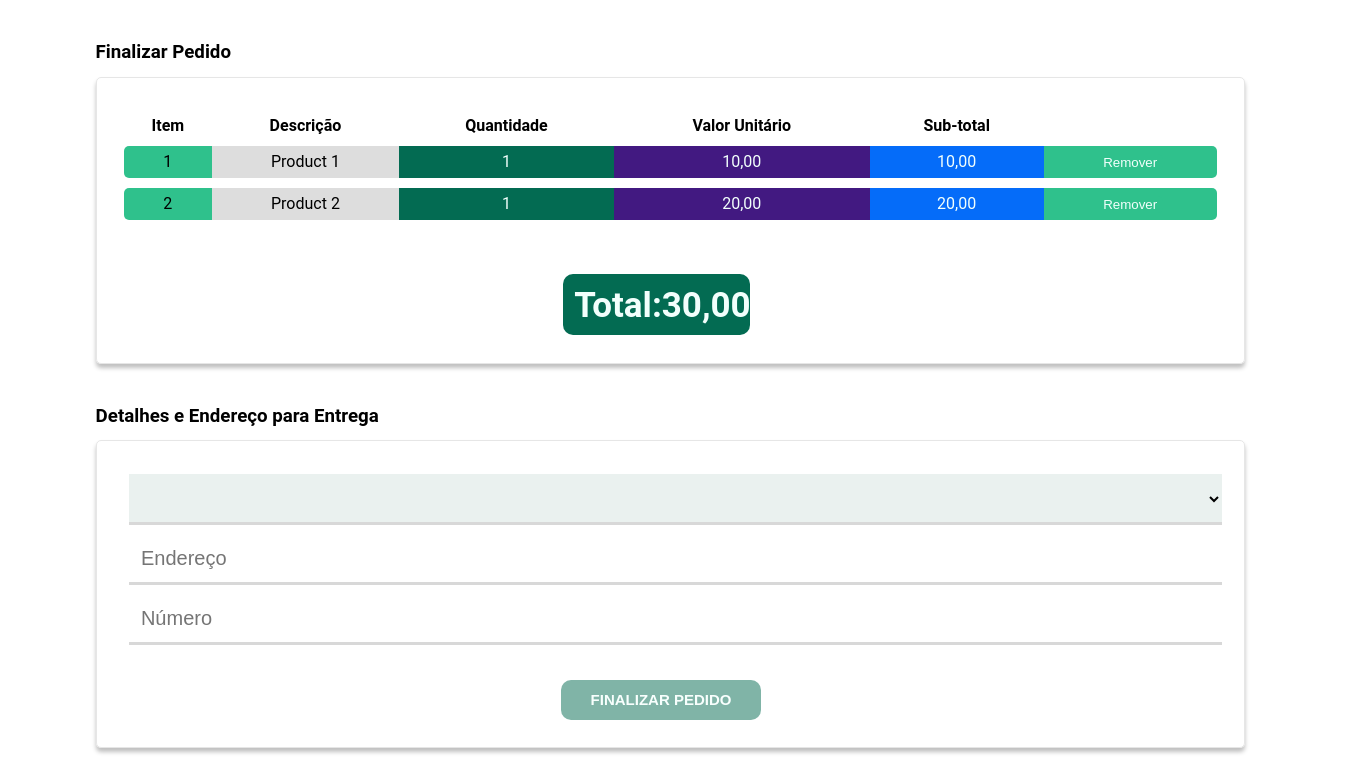
Test: Checkout › removes a product from the cart when the remove button is clicked
The image size is (1366, 768).
Check: the heading "Finalizar Pedido" is shown, box [96, 41, 231, 63]
Check: the heading "Detalhes e Endereço para Entrega" is shown, box [96, 405, 379, 427]
What coordinates should you click on to do the following:
click the button with test id "customer_checkout__element-order-table-remove-1"
I would click on:
 (1130, 205)
Its box is [1097, 196, 1163, 213].
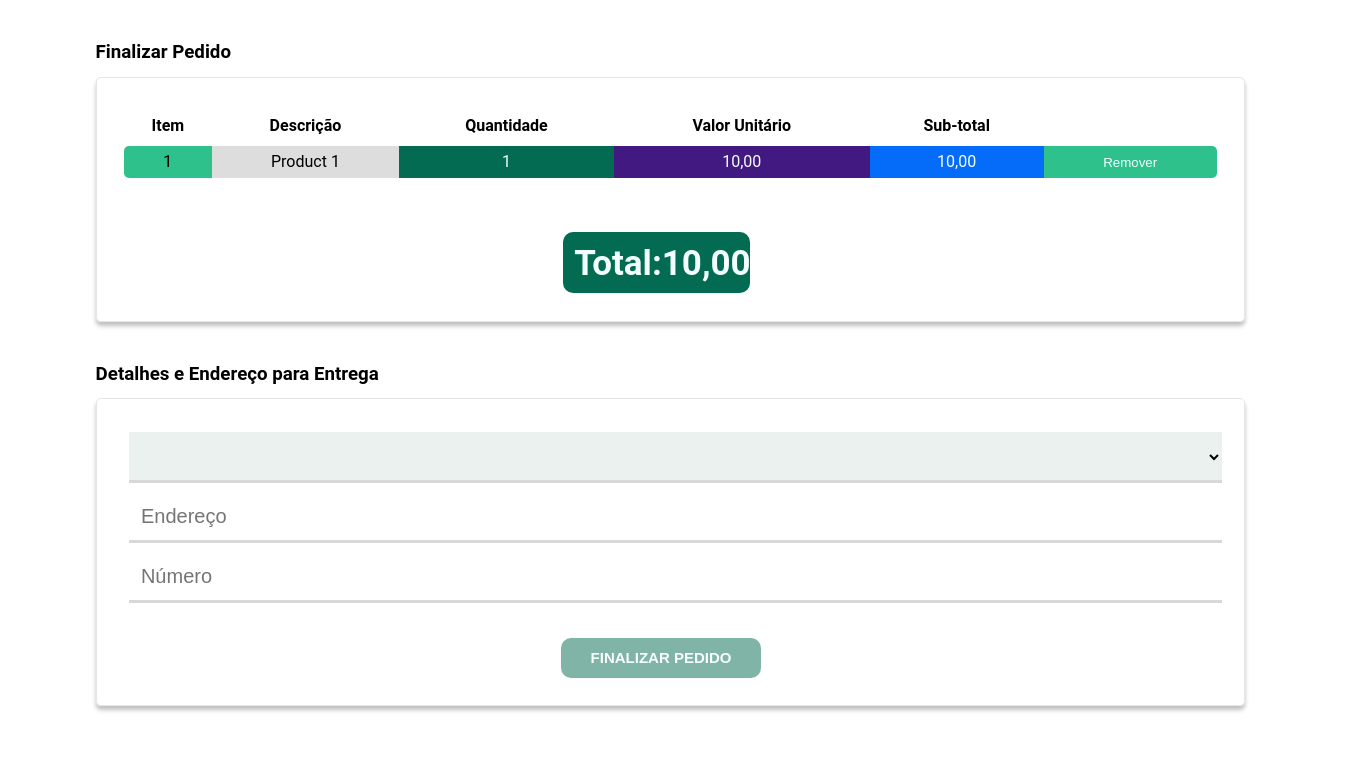
Check: the cell with test id "customer_checkout__element-order-table-name-1" is gone
